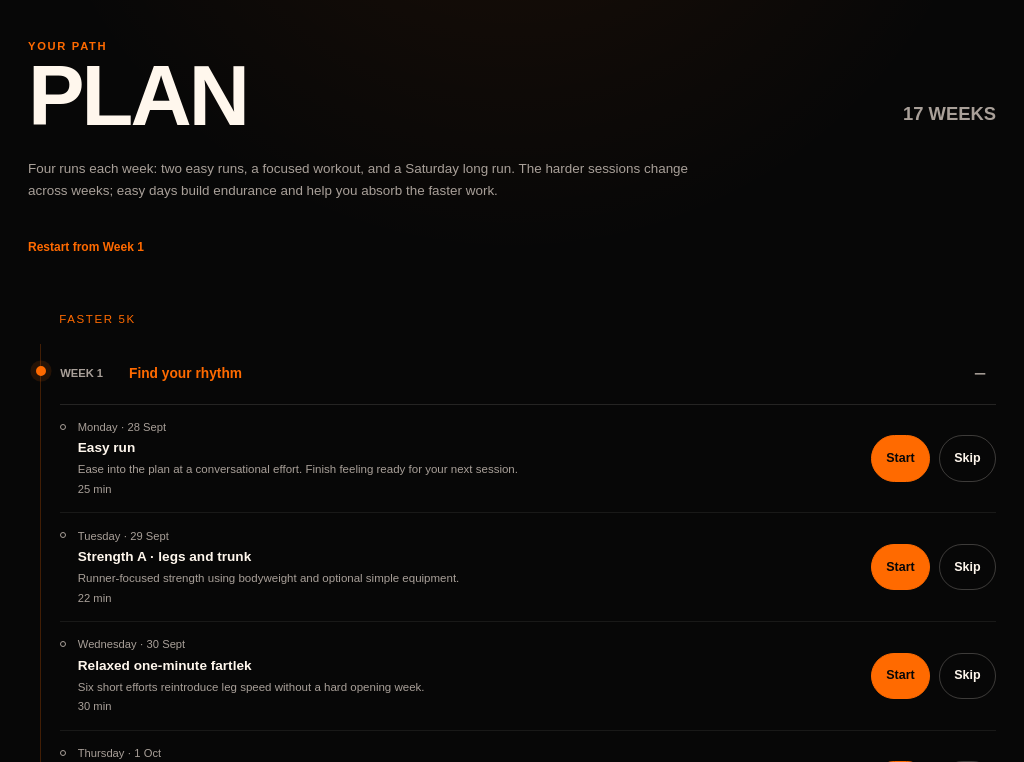
Test case: PlanPage › explains the restart, defaults to today, and can be cancelled
Click the button "Restart from Week 1".
click(86, 247)  # box [28,225,144,269]
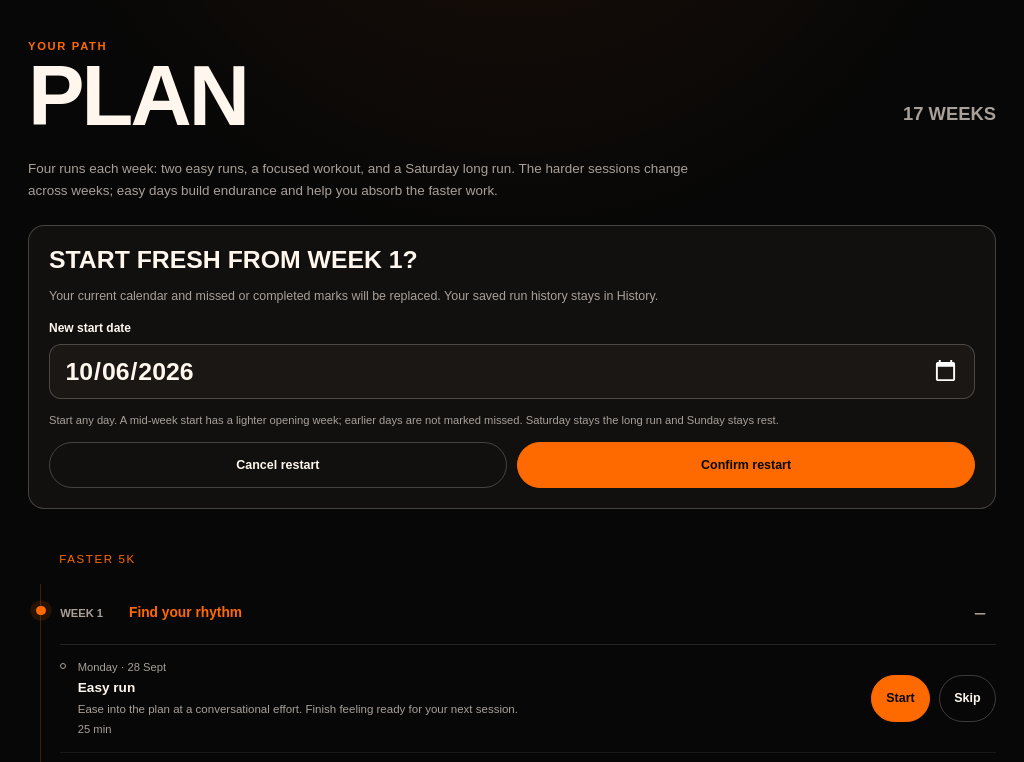
Expected: the date field labelled "New start date" holds "2026-10-06", [49,344,975,399]
Expected: the text "saved run history stays in History" is shown, [49,289,658,303]
Click the button "Cancel restart".
click(278, 465)  # box [49,442,507,488]
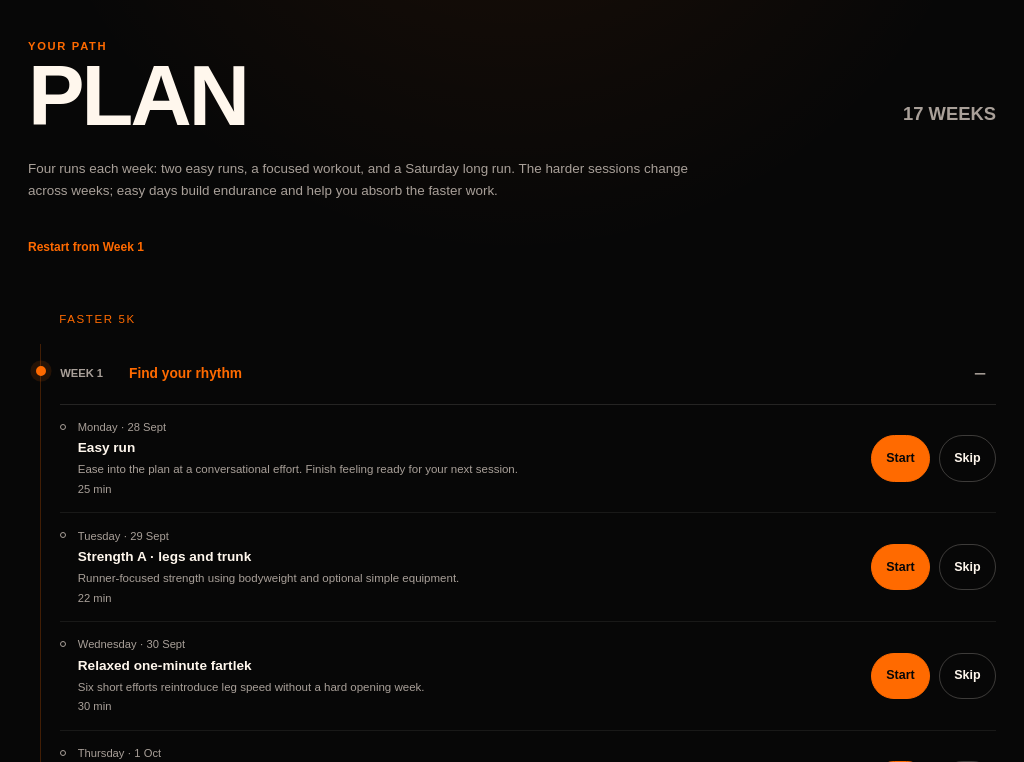
Expected: the button "Confirm restart" is gone
